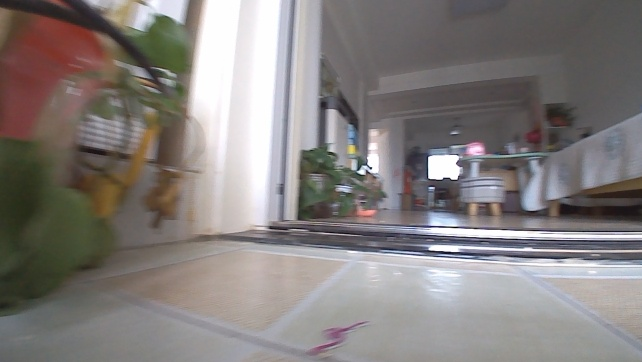sofa1: (520, 112, 641, 218)
